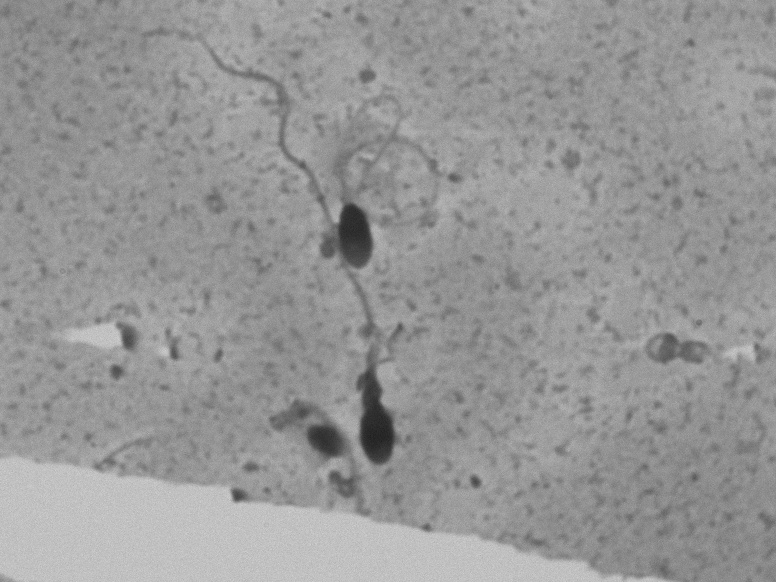Abnormal: (311, 281, 478, 471), (313, 97, 462, 278)
